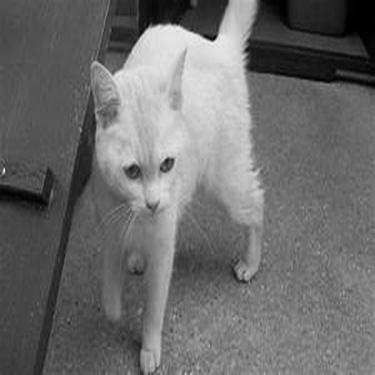cat: (87, 5, 268, 369)
